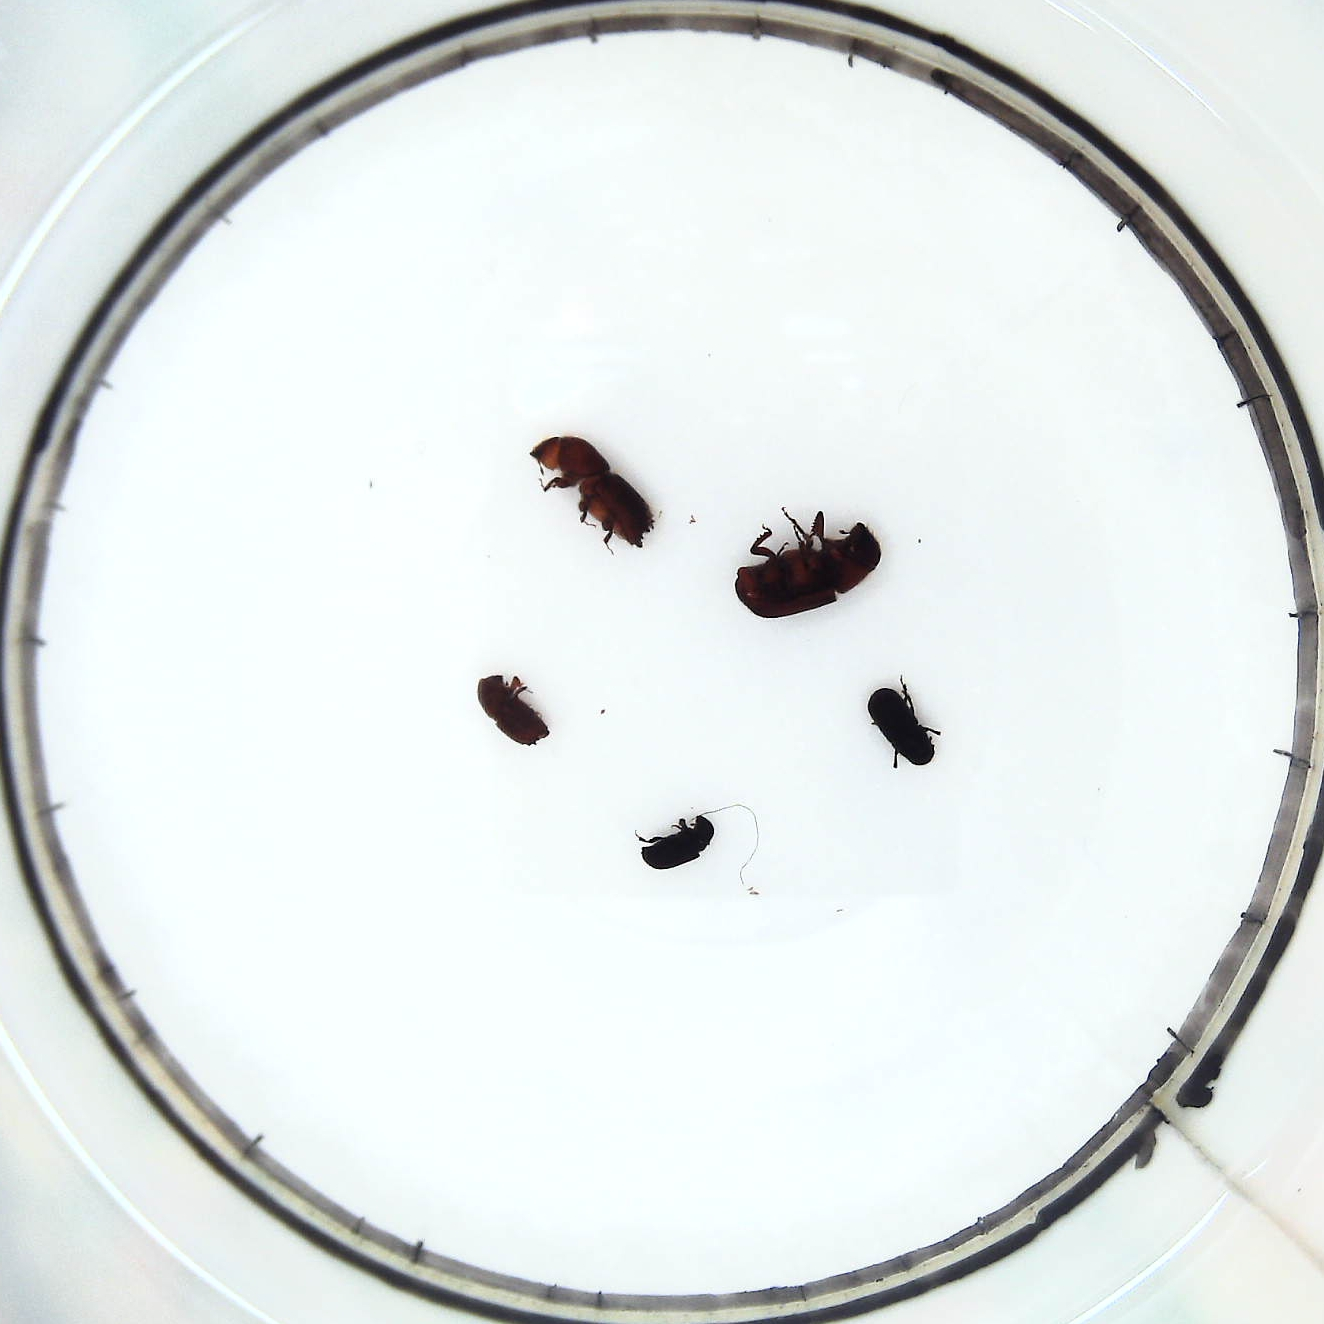Boerner: (529, 430, 661, 558)
Leconte: (729, 502, 895, 621)
armandi: (861, 681, 945, 772)
coleoptera: (630, 814, 721, 871)
linnaeus: (475, 667, 553, 751)
